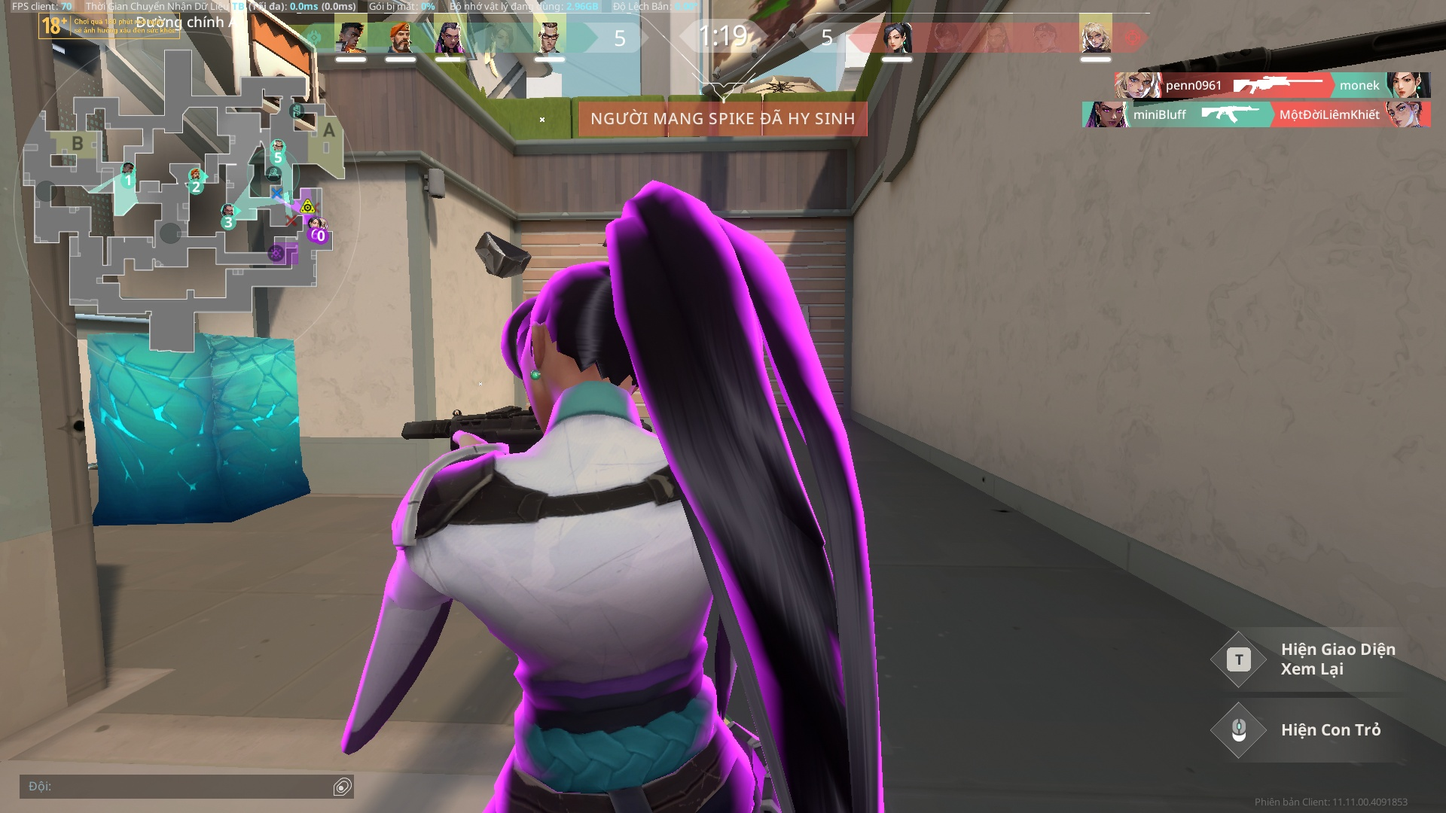body: (444, 413, 749, 751)
head: (507, 277, 655, 403)
